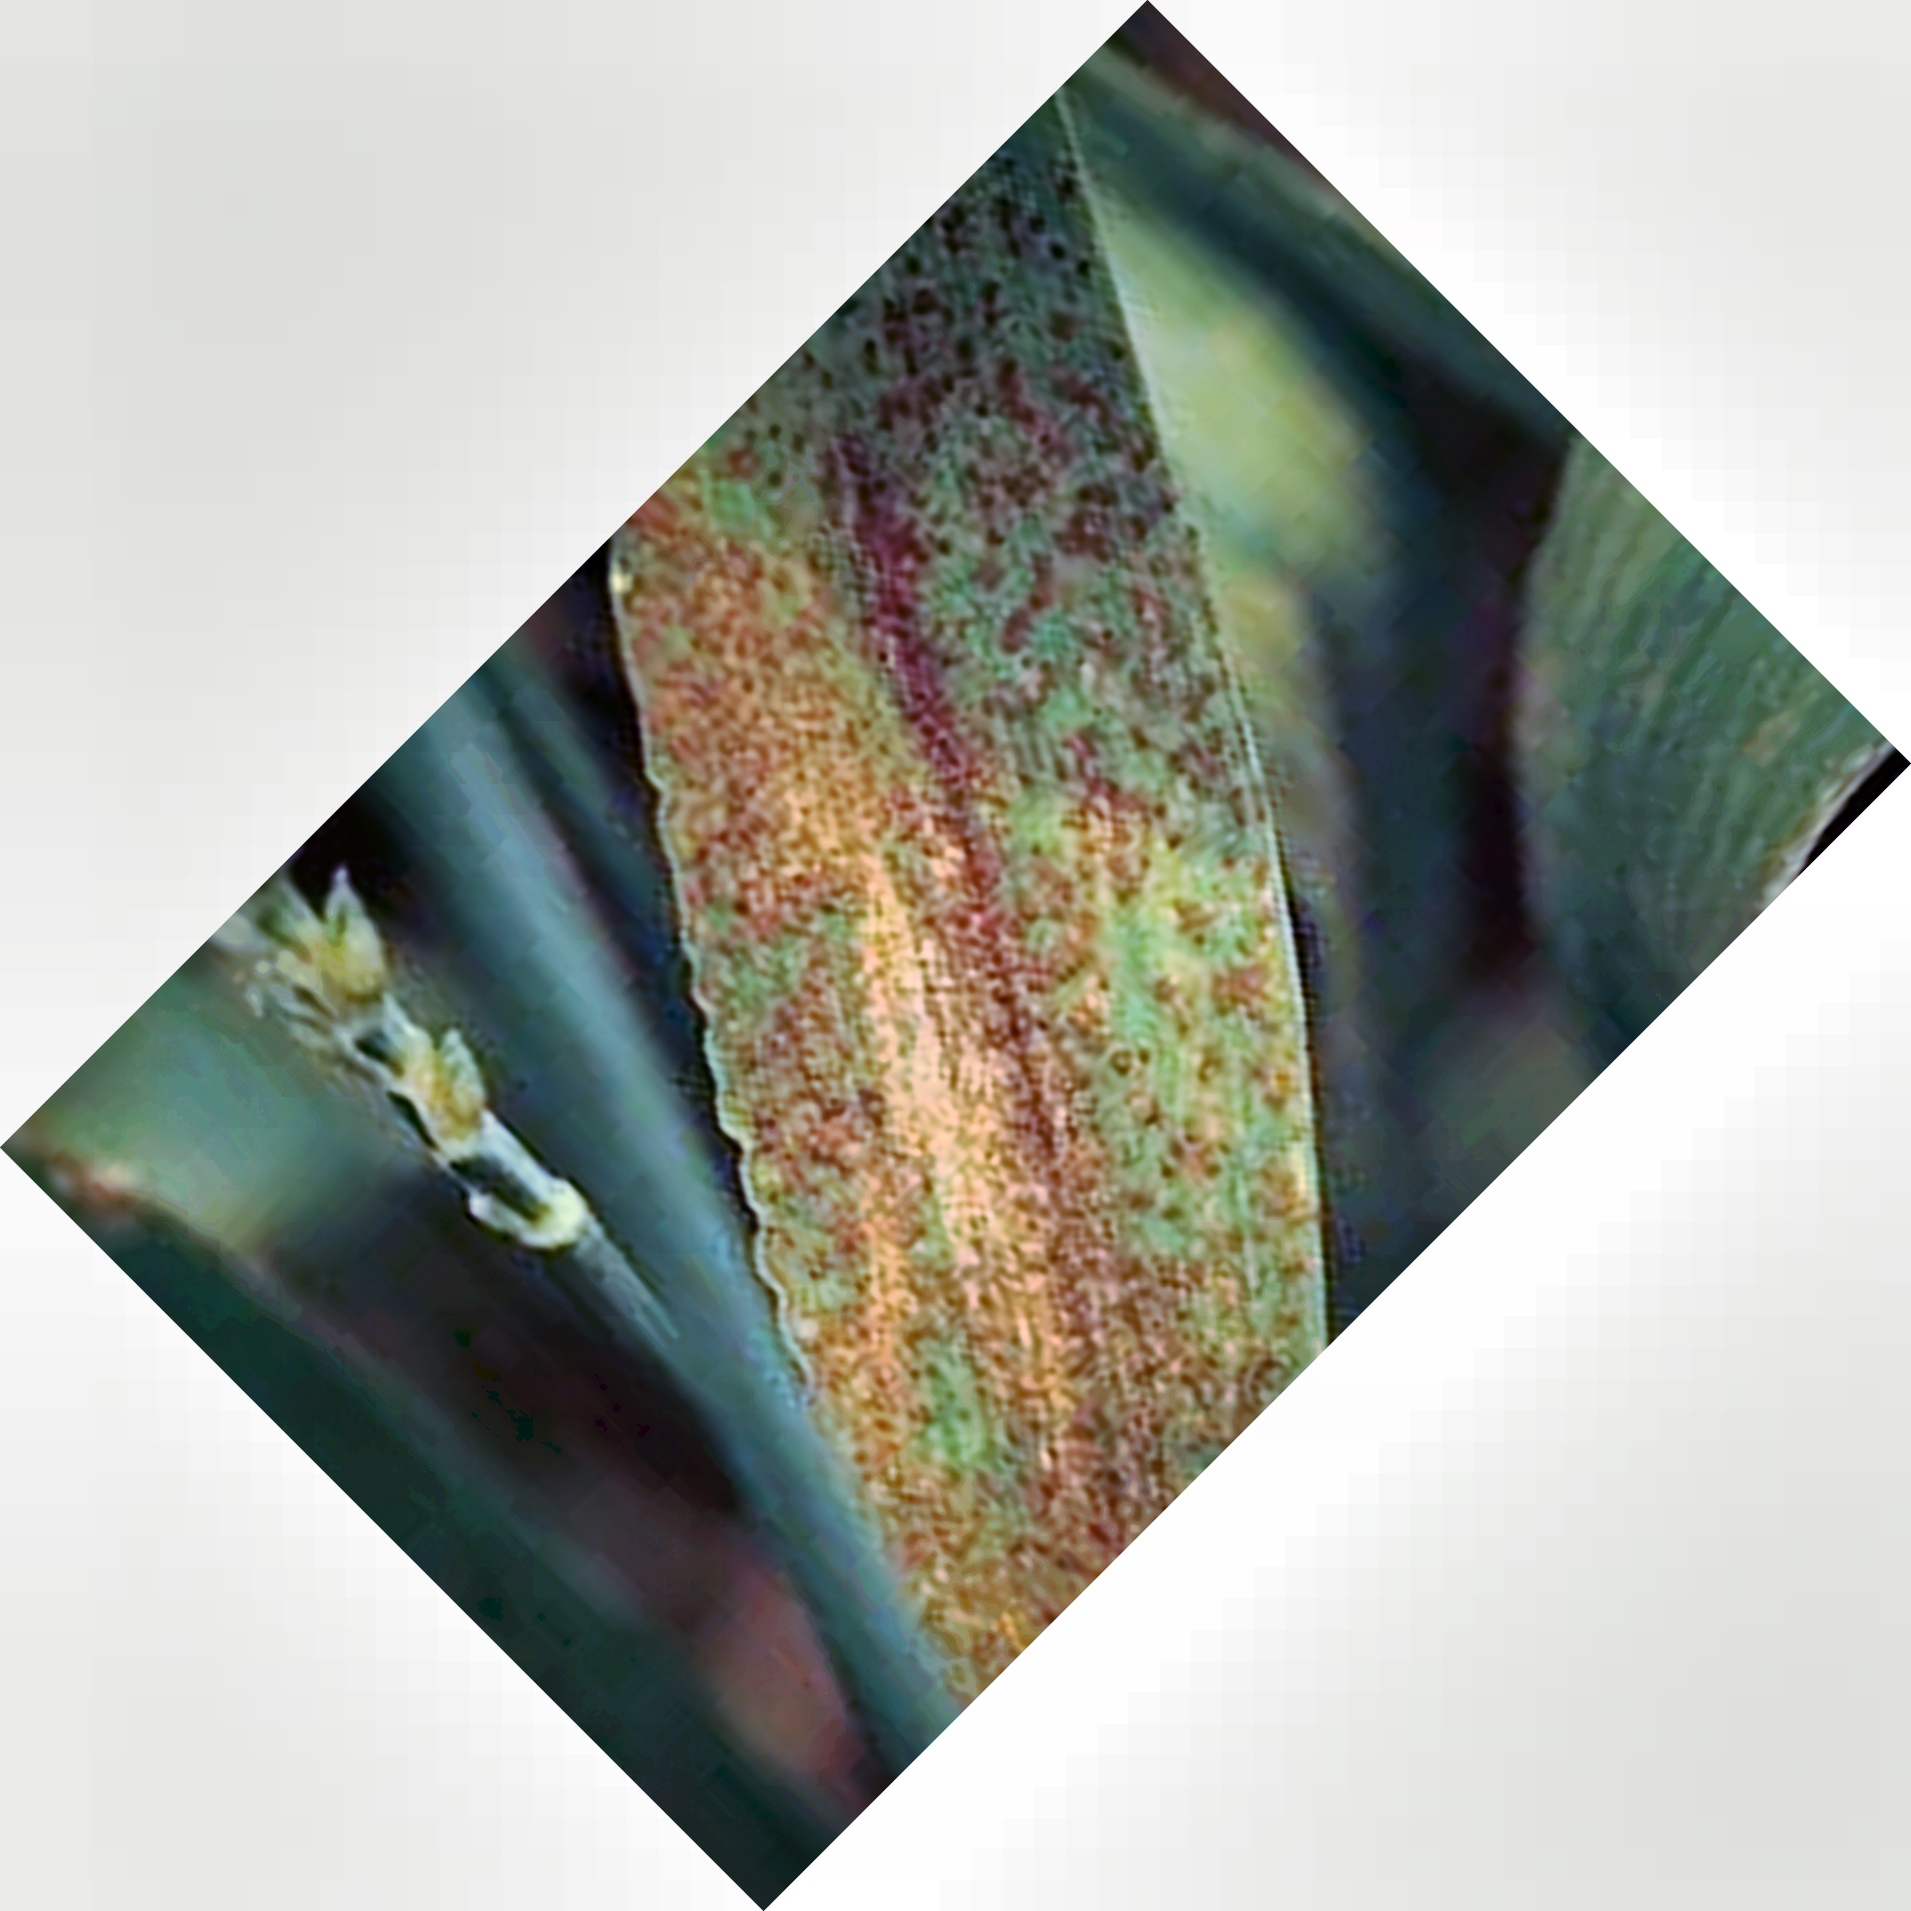Leaf Rust: (642, 353, 1326, 1501)
